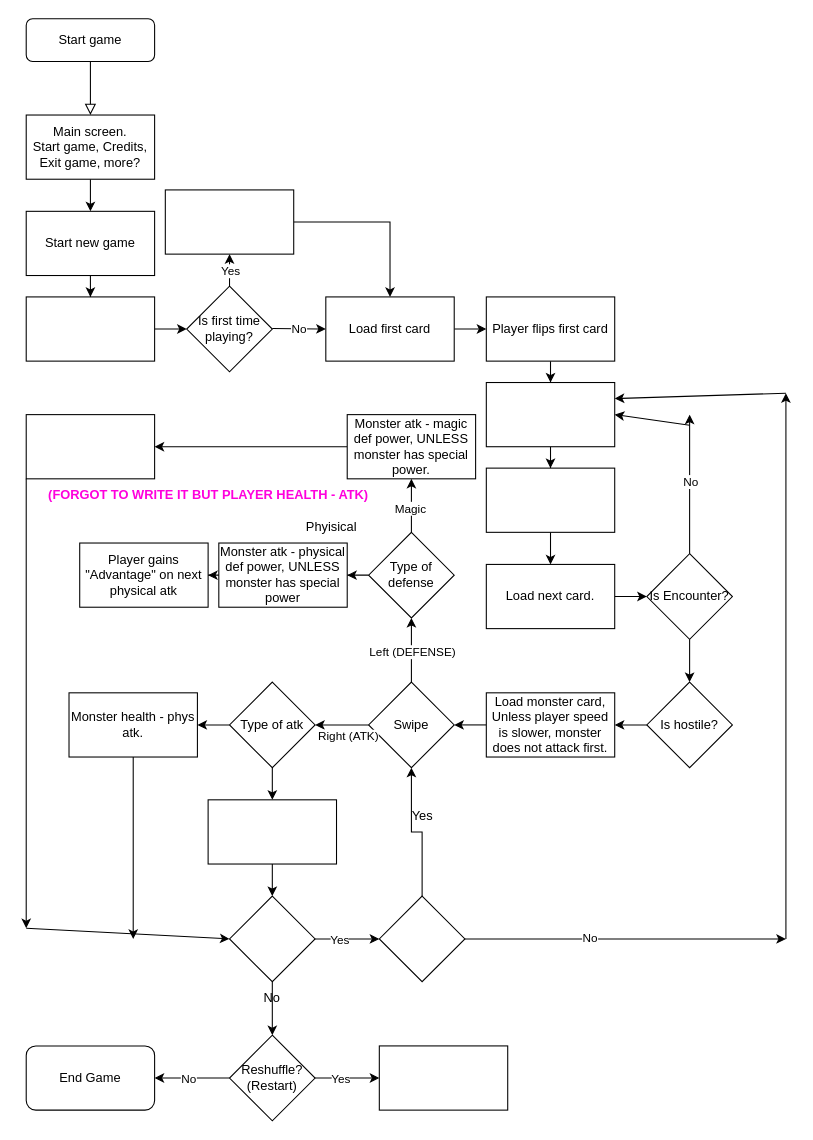
This 813x1140 diagram has some shape labels left out. The centre of each missing label's shape, as x and y in pixels:
(GO BACK TO START GAME) :I: [443,1077]
Is enemy alive: [421,938]
Is player alive: [271,938]
Load gui and card assets: [90,328]
Load info/tutorial cards: [229,221]
Load the possible player decision results (Left hallway, Right Hallway): [550,414]
Monster health - magic atk: [272,831]
Player flips card in the direction of the decision.: [550,499]
Player gains "Advantage" on next magic atk: [90,446]
